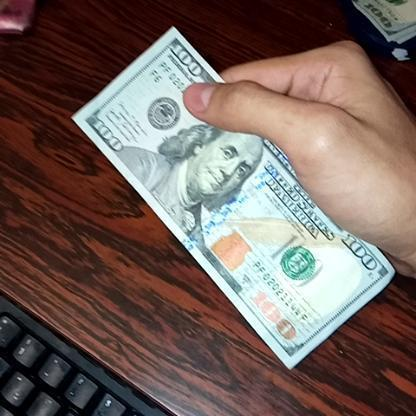one_hundred-front: (68, 26, 397, 367)
